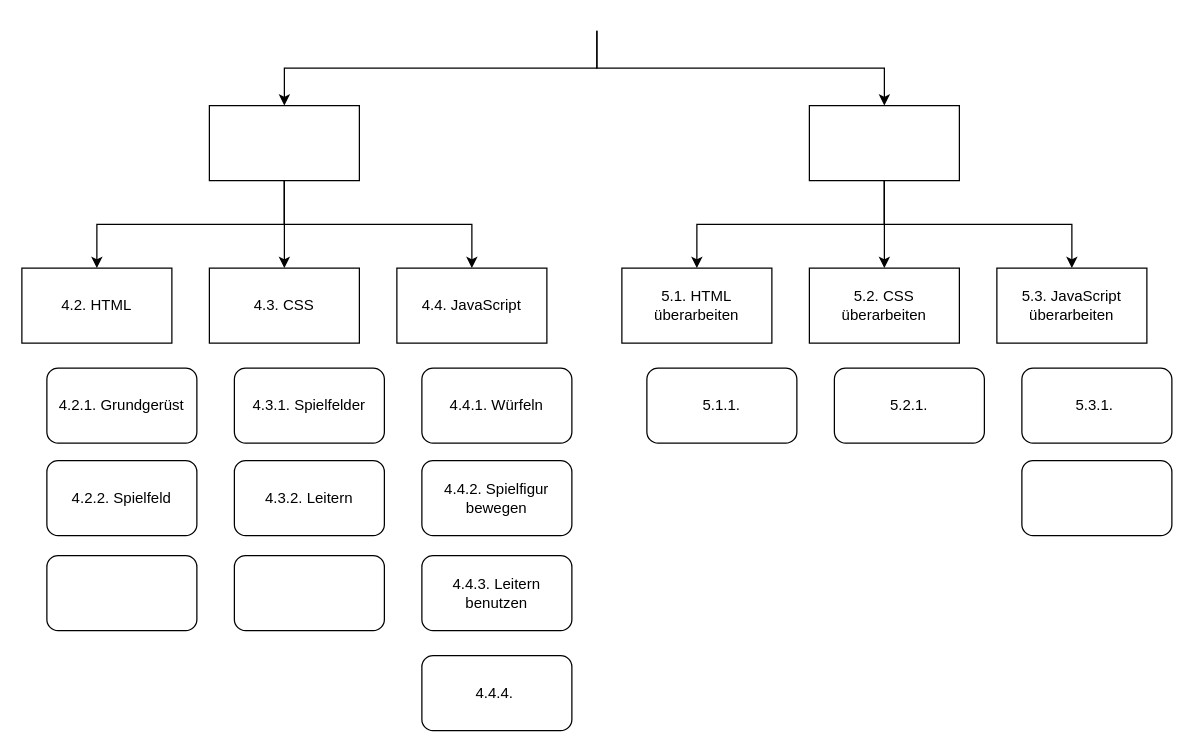
This 1194x753 diagram has some shape labels left out. Each missing label, with the centre of its shape:
"4. Prototyp" goes at (x=283, y=142).
"5. Spiel" goes at (x=883, y=142).
